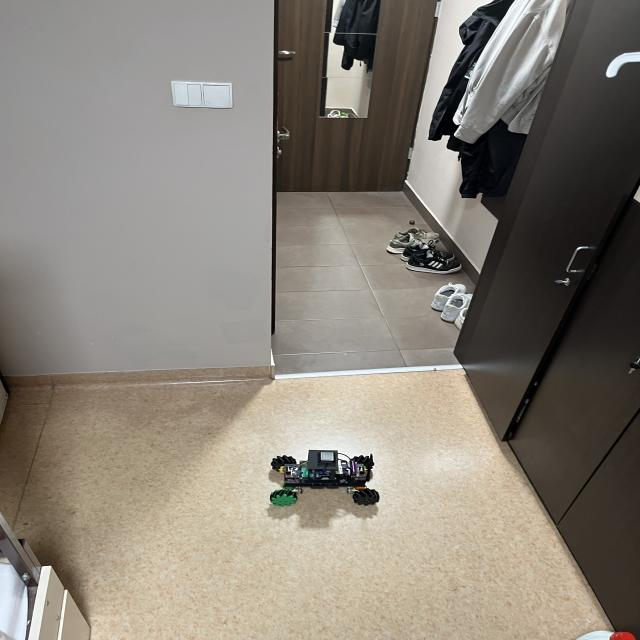robot: (270, 450, 379, 505)
